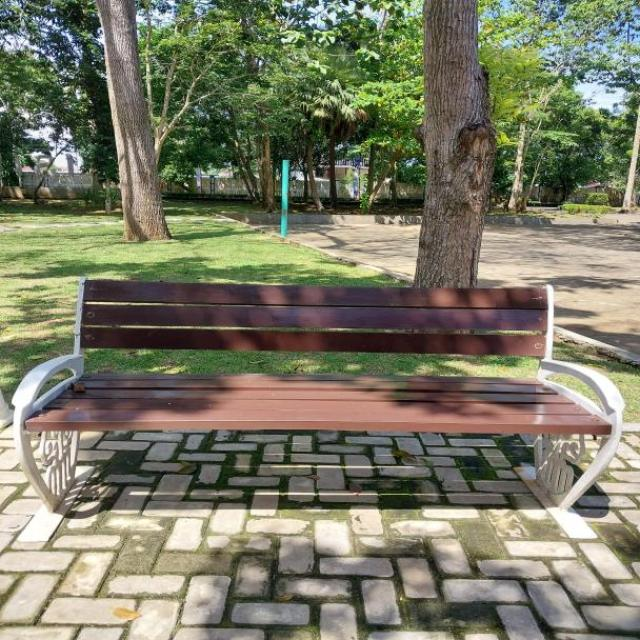bench ahead at: (9, 274, 632, 536)
